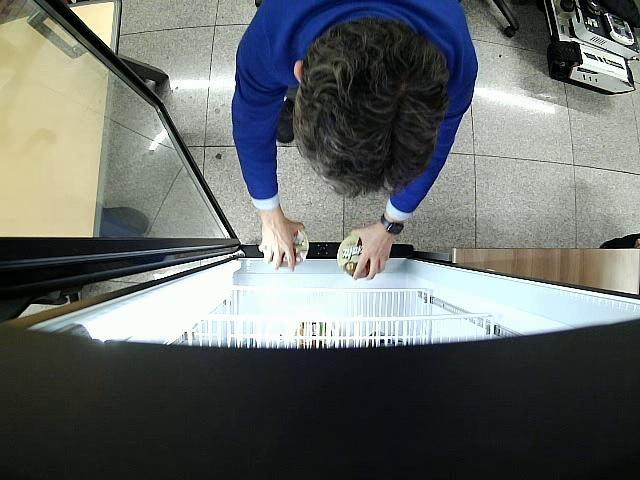03_chapagetti_L: (336, 235, 371, 279), (279, 230, 309, 268)
